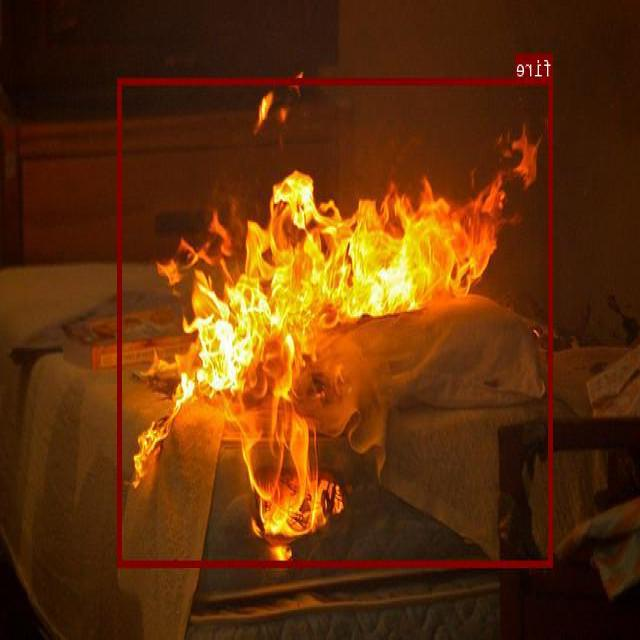fire: (119, 77, 553, 566)
